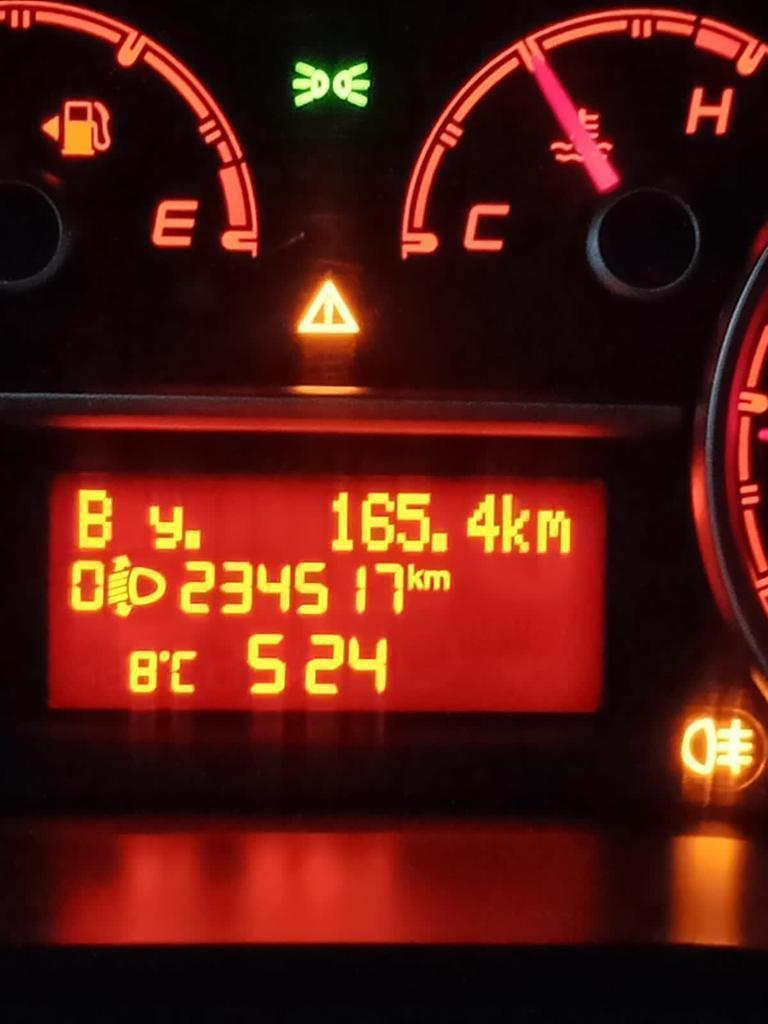,: (430, 528, 451, 556), (183, 525, 205, 551)
0: (68, 556, 106, 613)
1: (329, 487, 354, 554), (350, 560, 371, 617)
2: (303, 627, 347, 696), (180, 558, 215, 618)
3: (220, 556, 253, 617)
4: (348, 630, 391, 698), (465, 488, 499, 558), (256, 557, 291, 614)
5: (243, 631, 287, 699), (395, 489, 430, 553), (295, 557, 328, 615)
6: (358, 488, 395, 553)
7: (376, 560, 404, 617)
8: (126, 645, 159, 696)
X: (75, 487, 113, 549), (501, 491, 533, 556), (535, 506, 572, 556), (147, 502, 182, 549), (171, 648, 199, 695), (423, 566, 451, 591), (406, 560, 423, 591)
odometer: (37, 463, 613, 725)
